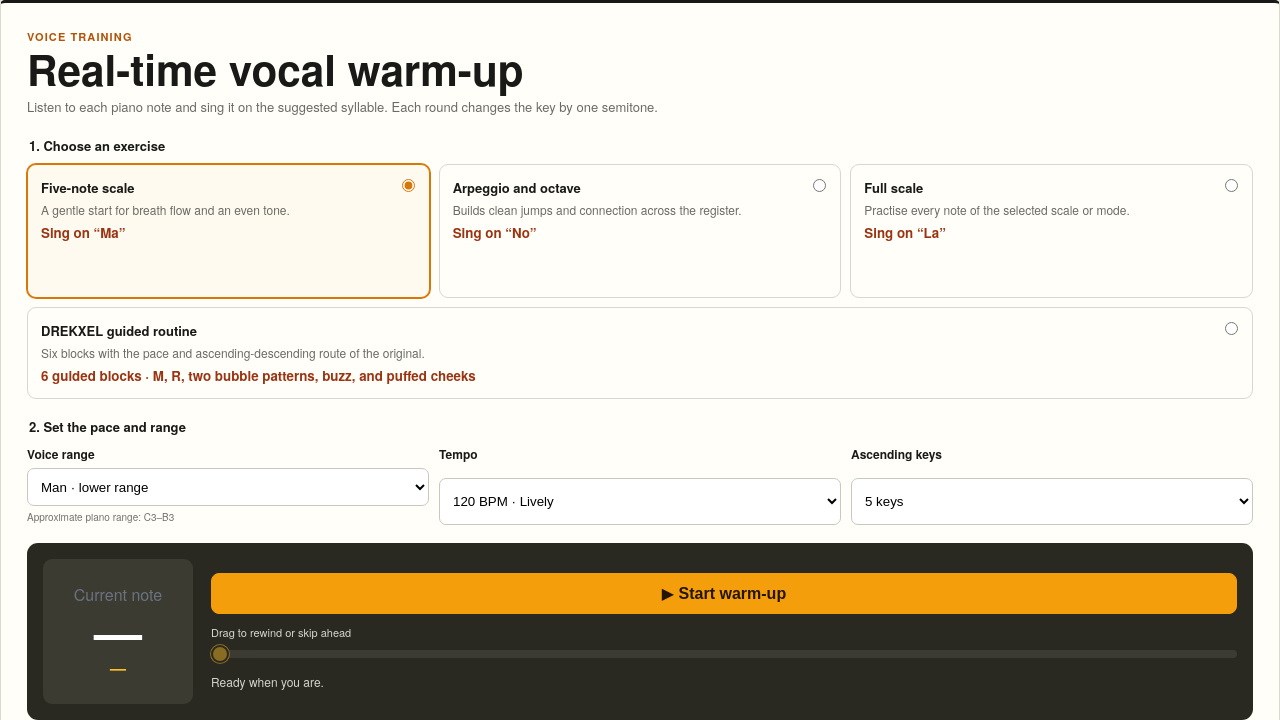
Test case: SingingPractice › shows the adapted DREKXEL routine and links to the original warm-up
What coordinates should you click on to do the following:
click the text "DREKXEL guided routine"
I would click on:
 (119, 330)
Its box is [41,320,197,340].
(page scrolled)
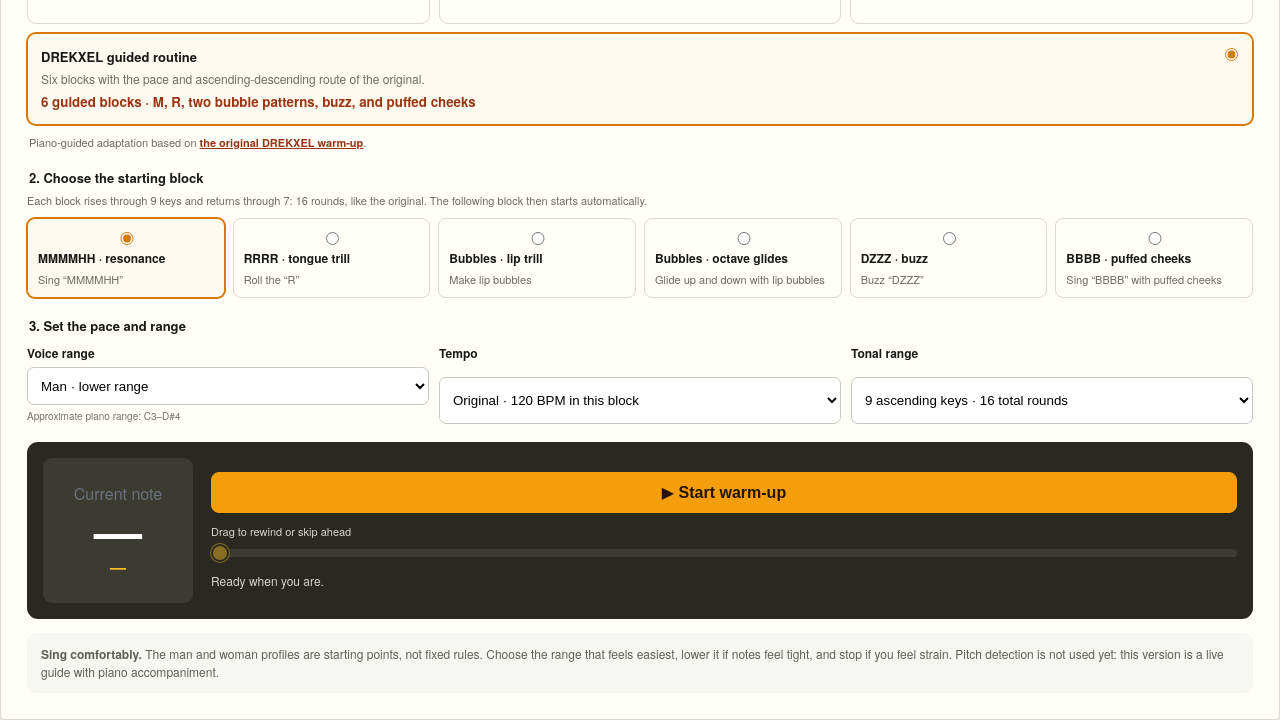
Expected: the number of radio buttons labelled "MMMMHH · resonance Sing “MMMMHH”" is 6, [43,232,211,245]; [249,232,416,245]; [454,232,622,245]; [660,232,828,245]; [866,232,1033,245]; [1071,232,1239,245]
Expected: the dropdown labelled "Tempo" shows "Original · 120 BPM in this block", [439,376,841,424]
Expected: the dropdown labelled "Tonal range" shows "9 ascending keys · 16 total rounds", [851,376,1253,424]
